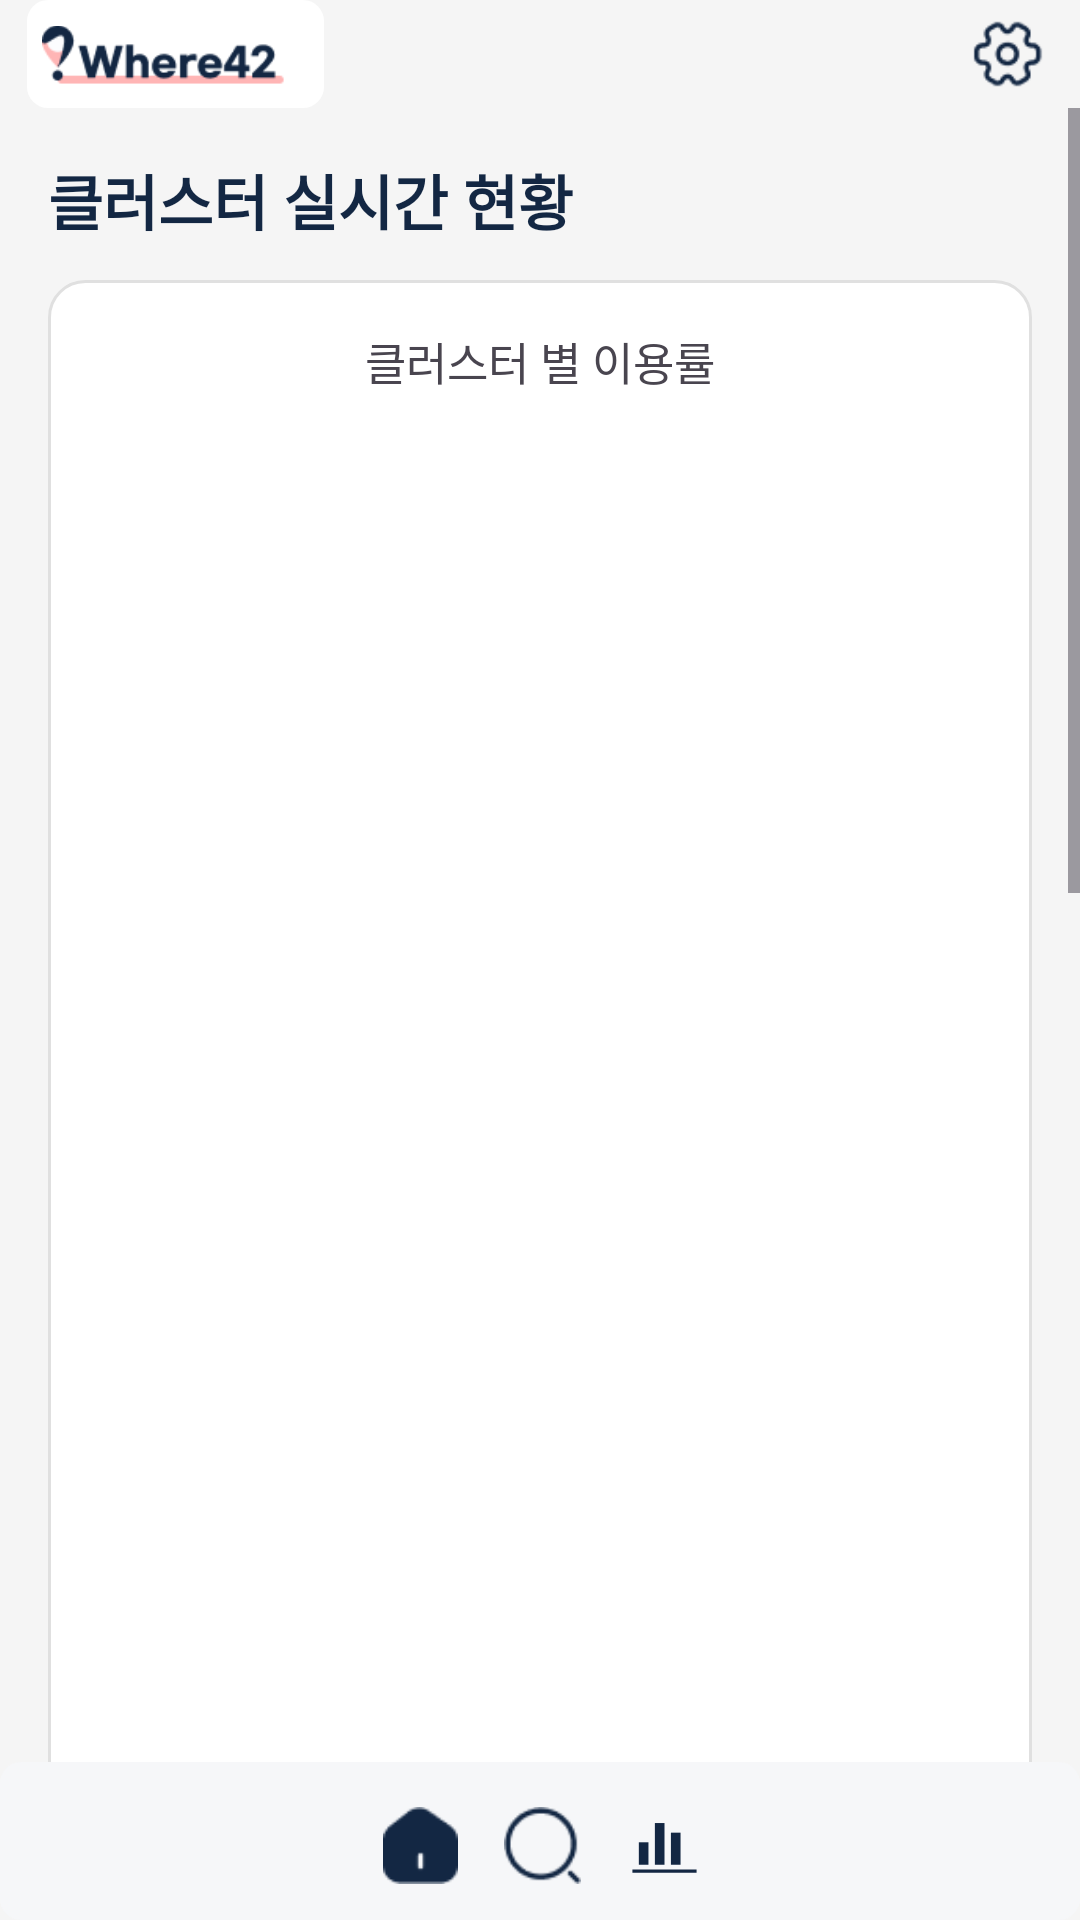

Where icons sit on this 1080w x 1920h app screen, as (x1, y1, x2, y2):
bar: (632, 1823, 697, 1873)
settings: (974, 21, 1042, 87)
